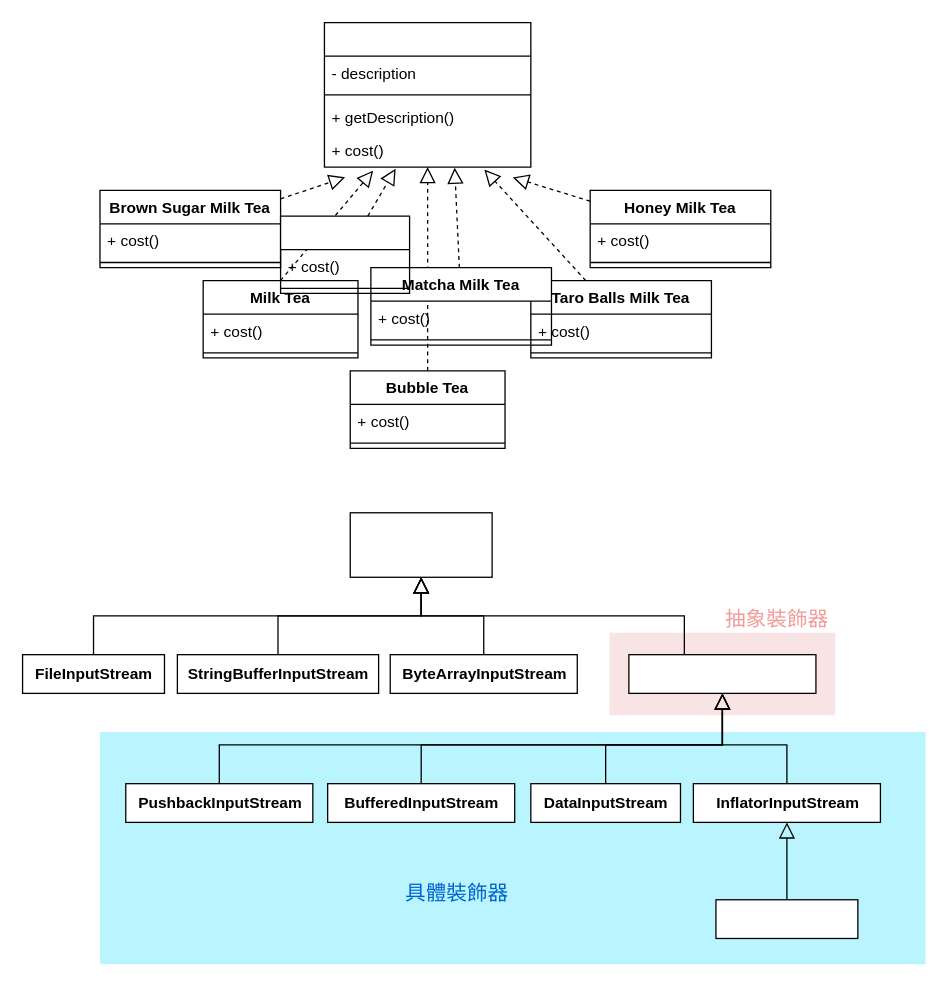
Image size: 948x987. Some labels were removed from this diagram. The box of each missing label's shape, as (x1, y1, x2, y2) in pixels:
Drink: (323, 21, 531, 167)
FilterInputStream: (628, 653, 816, 693)
Thai Milk Tea: (279, 215, 410, 293)
ZipInputStream: (715, 898, 858, 938)
«abstract class» InputStream: (349, 511, 492, 577)
